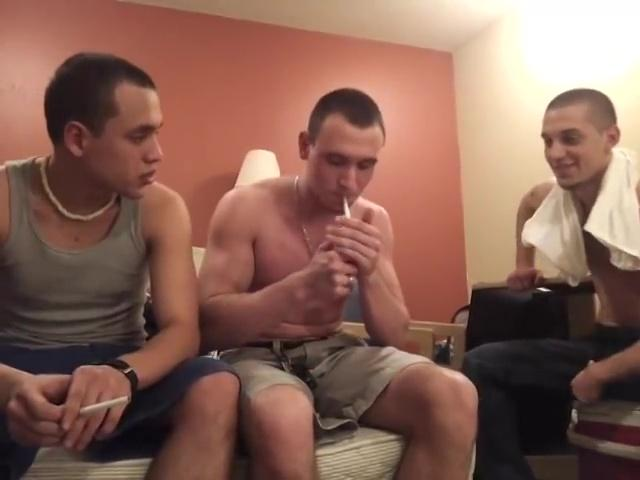cigarette: (76, 392, 134, 419), (341, 195, 355, 219)
